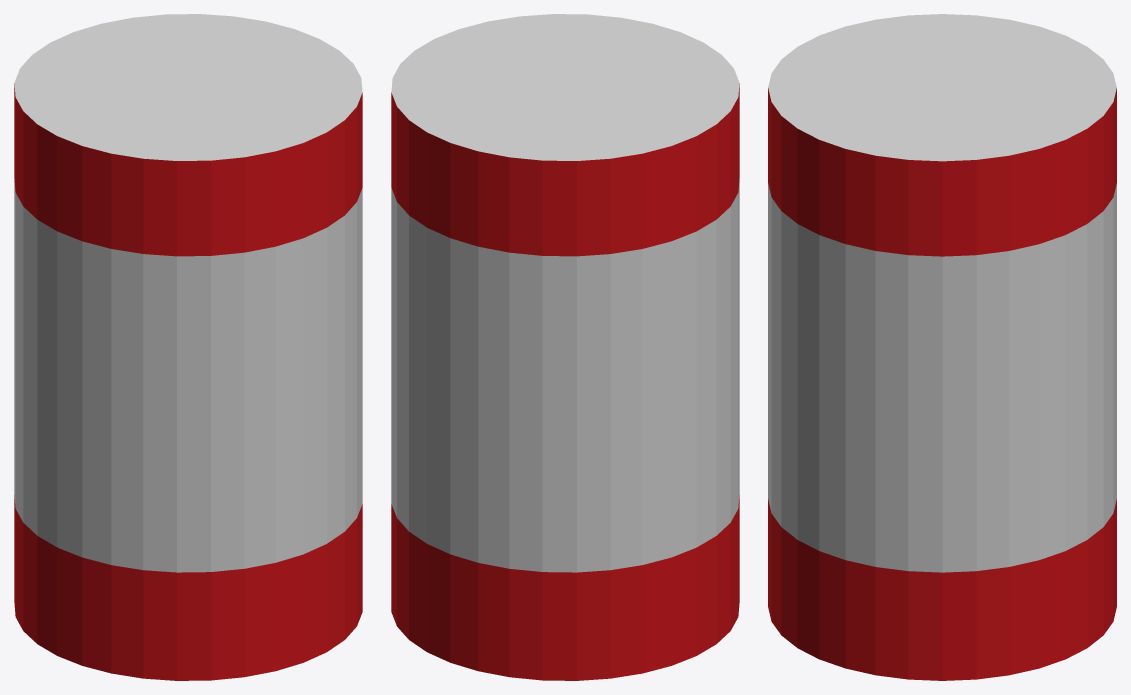
Rendered from fire_barrel.dae.
3 renders of one model, left to right at view 1: azimuth 30°, elevation 25°; view 2: azimuth 150°, elevation 25°; view 3: azimuth 270°, elevation 25°, orthographic.
Visible parts, largest first — view 1: Cylinder; view 2: Cylinder; view 3: Cylinder.
Boxes of the visible parts, box(x1,y1,x2,y2) form: Cylinder: box(14, 14, 362, 680); Cylinder: box(391, 14, 739, 680); Cylinder: box(768, 14, 1116, 680).
Size of the model in its own units: 2 by 2 by 3.29.
